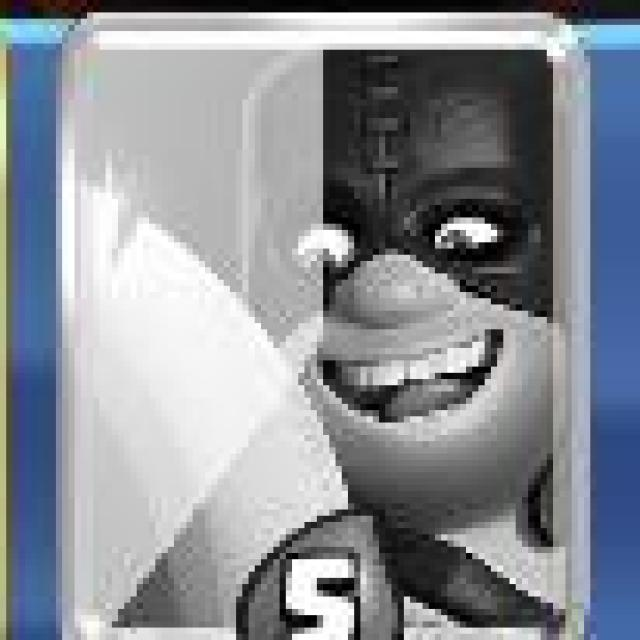Executioner: (57, 12, 590, 640)
